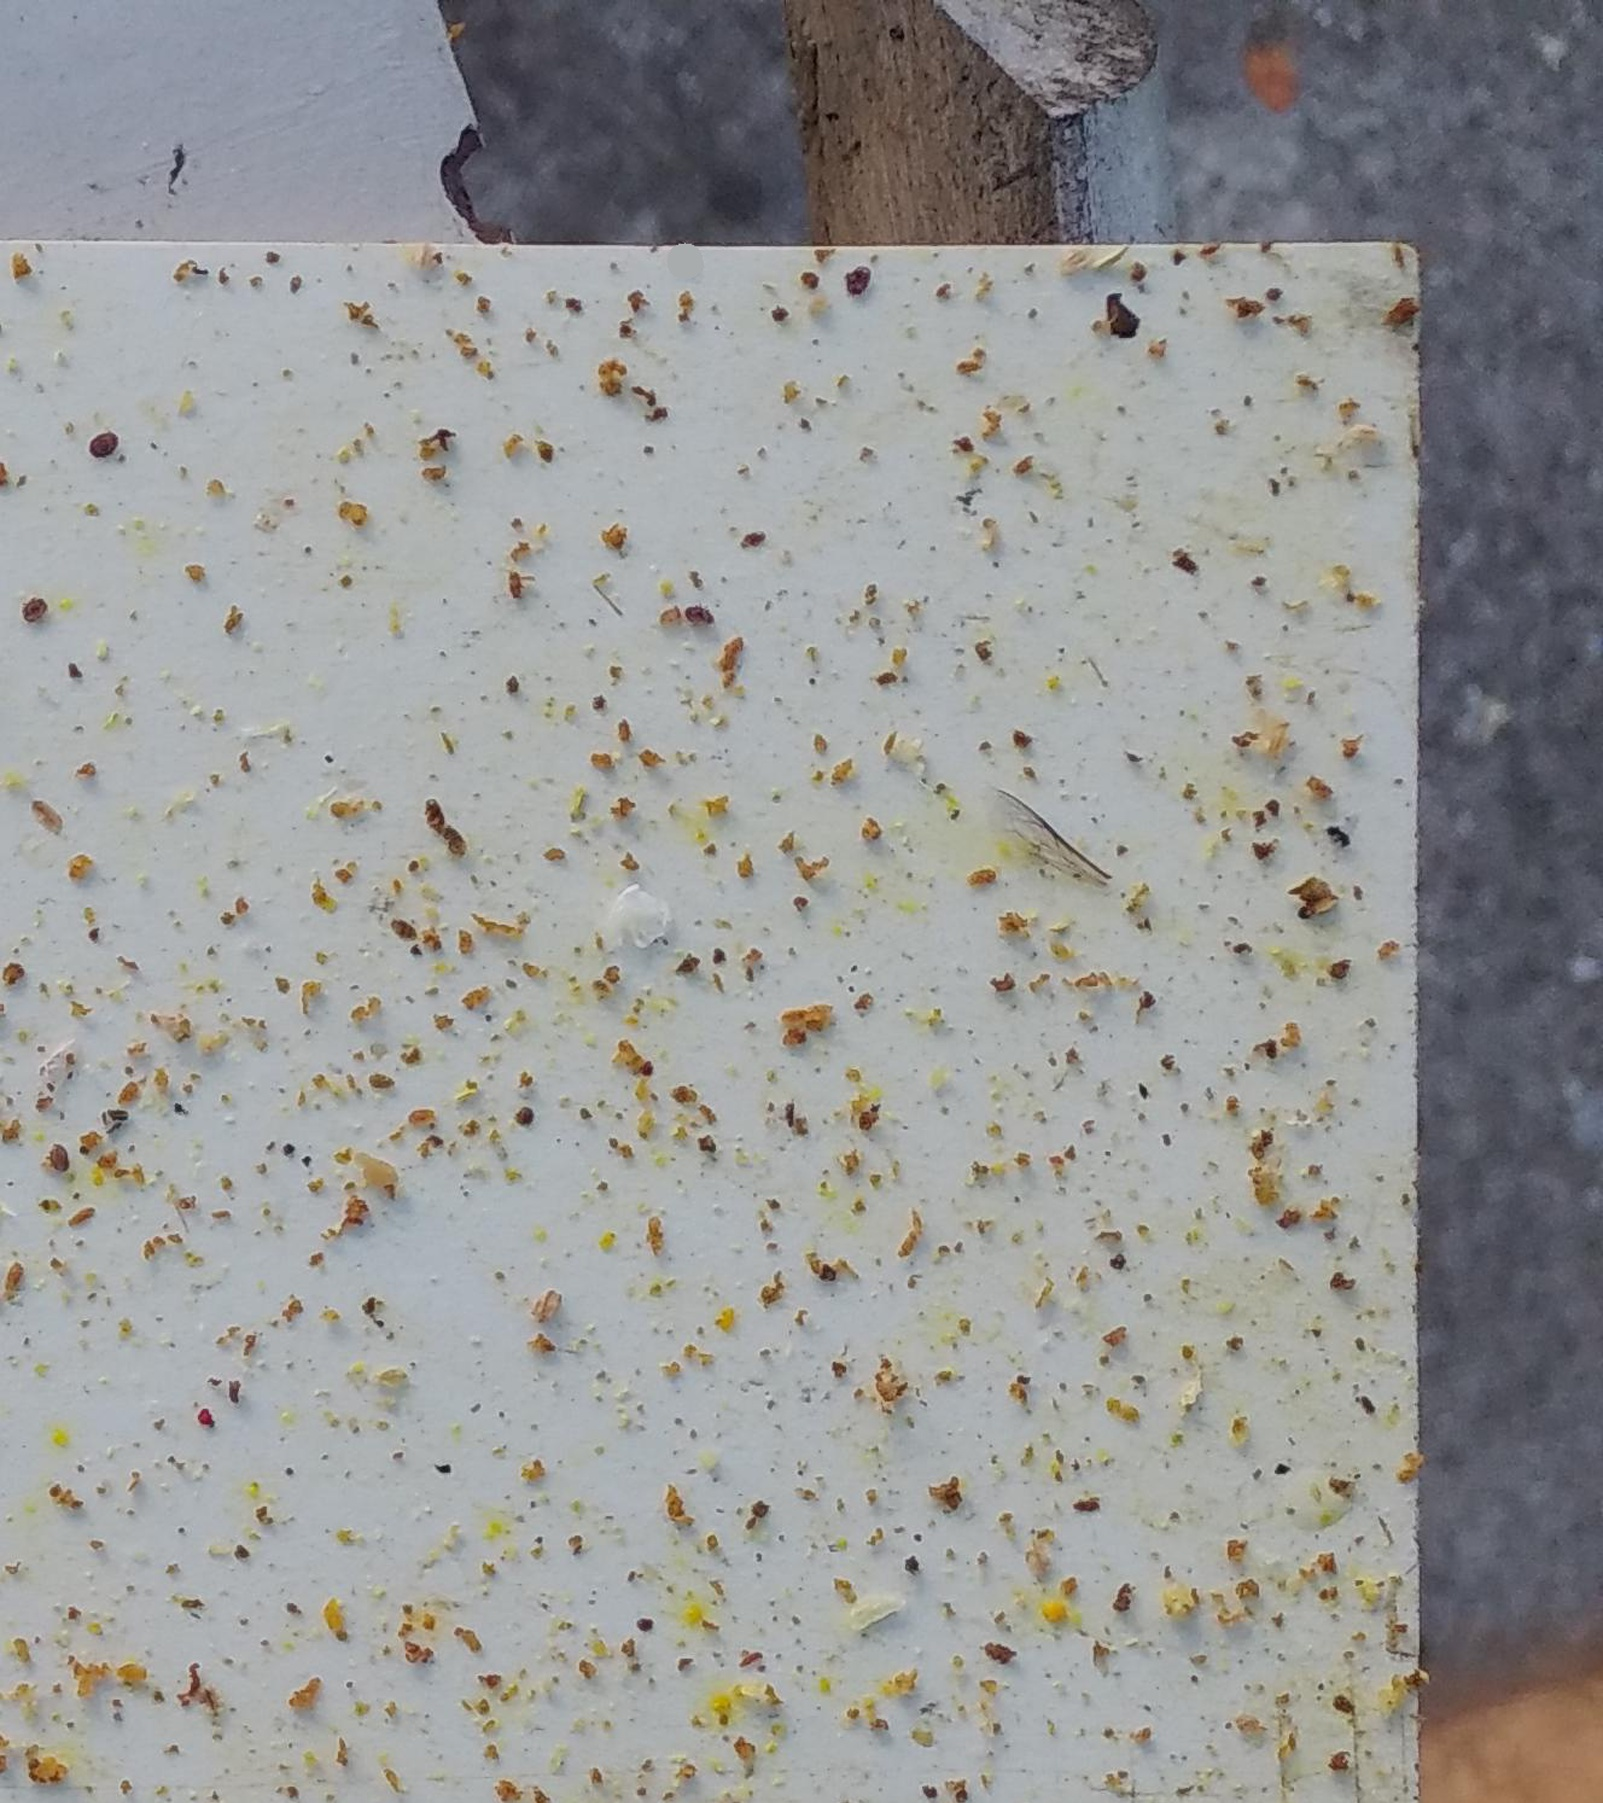Varroa: (676, 599, 709, 628), (22, 594, 50, 625), (845, 260, 870, 285), (91, 440, 111, 463), (46, 1148, 67, 1168)
